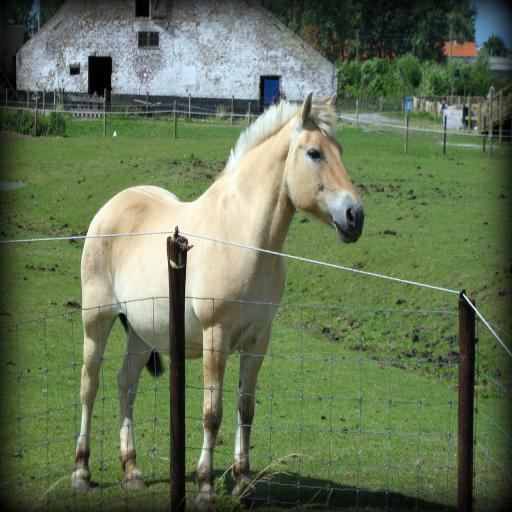Horse: (68, 94, 364, 512)
